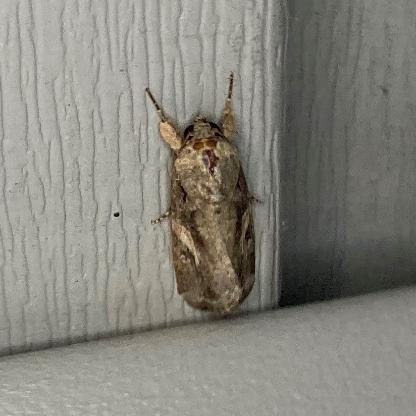Fall Armyworm Moth: (144, 69, 268, 319)
